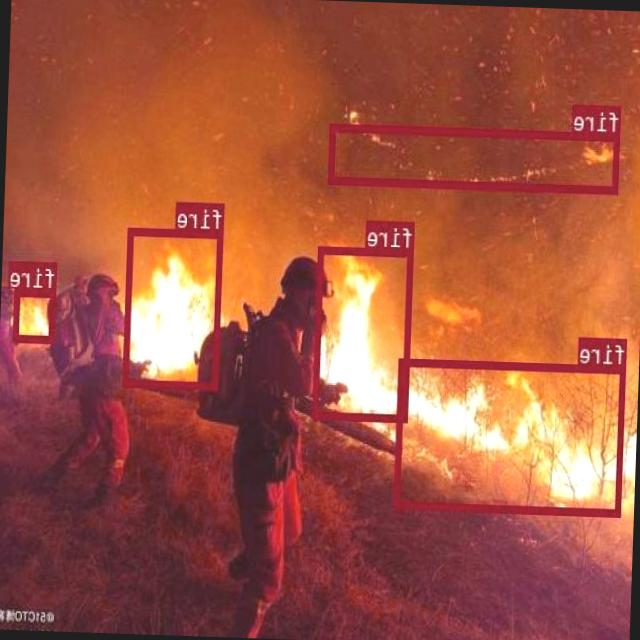fire: (396, 356, 626, 514), (330, 122, 620, 192), (314, 246, 414, 420), (123, 228, 224, 388), (14, 287, 56, 341)
